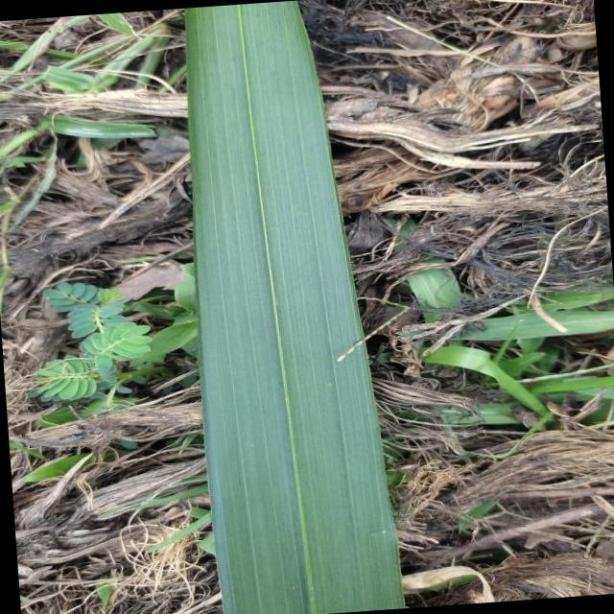Healthy: (184, 0, 406, 614)
